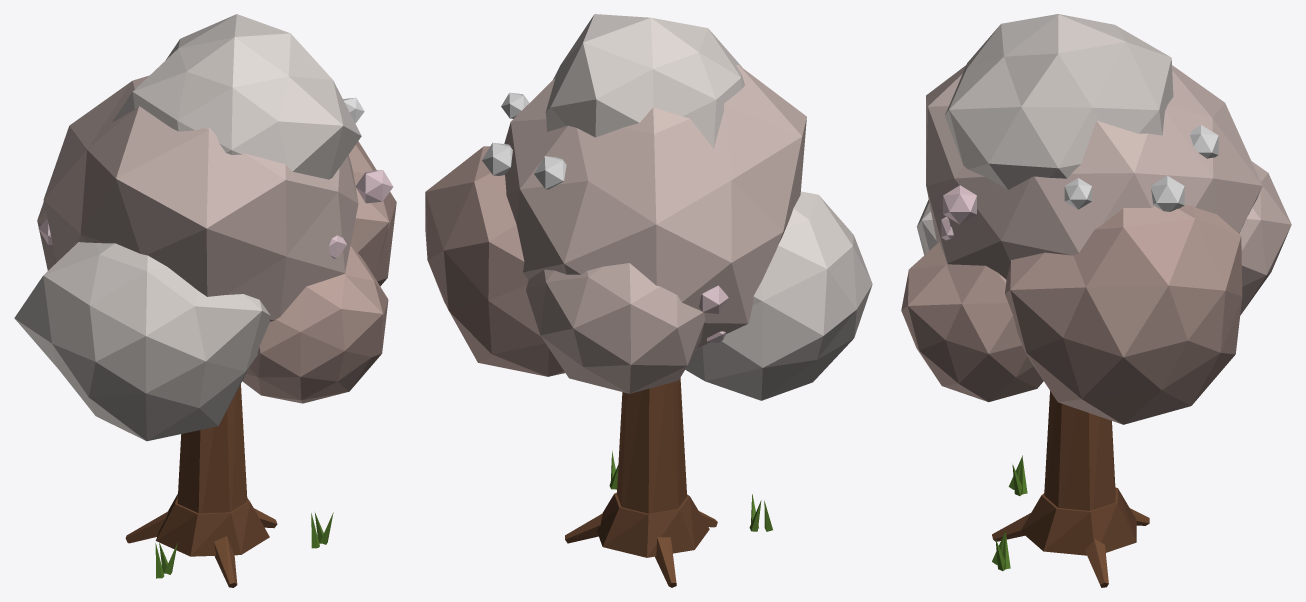
The model's file is arbre-fleuri.glb.
The picture shows the model from 3 angles, left to right: view 1: azimuth 30°, elevation 25°; view 2: azimuth 150°, elevation 25°; view 3: azimuth 270°, elevation 25°; orthographic projection. The views are drawn at different scales.
Bounding box in the file's own units: 4.69 × 6 × 3.91.
